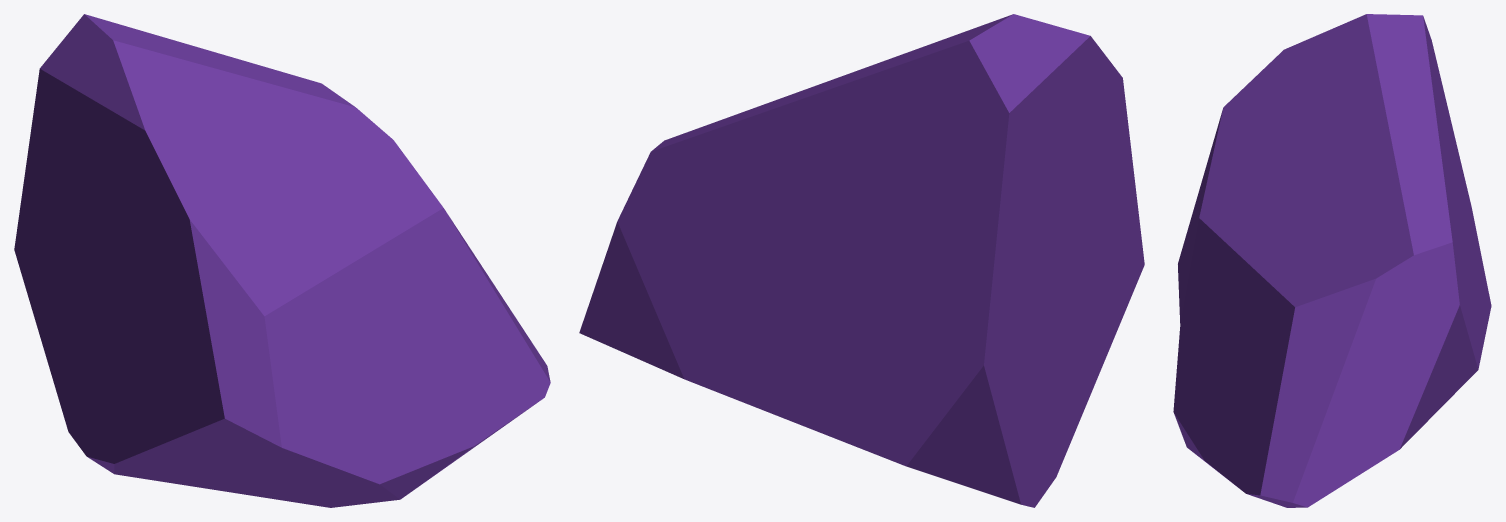
File: rock2.fbx
3 views of the same model, side by side, from view 1: azimuth 30°, elevation 25°; view 2: azimuth 150°, elevation 25°; view 3: azimuth 270°, elevation 25° (orthographic). The views are drawn at different scales.
Visible parts, largest first — view 1: Cube_003; view 2: Cube_003; view 3: Cube_003.
Part boxes in pixels (x1,y1,x2,y2): Cube_003: (14, 14, 550, 507); Cube_003: (579, 14, 1144, 507); Cube_003: (1173, 14, 1491, 507).
Size of the model in its own units: 1.42 by 1.46 by 1.09.
